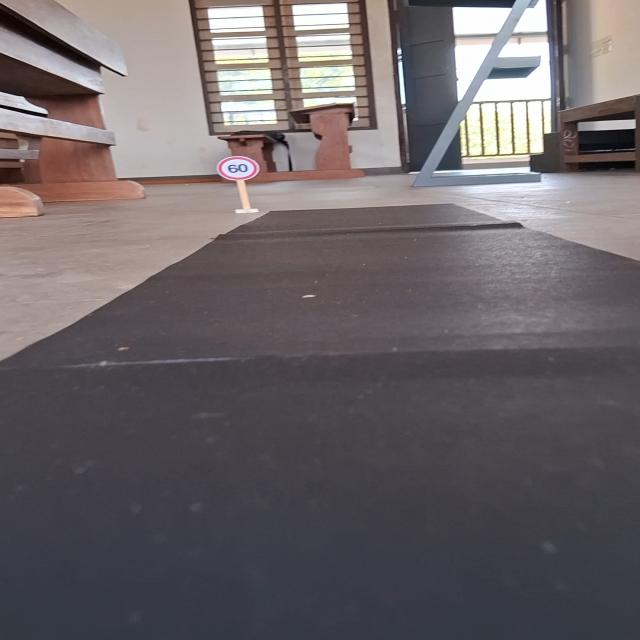Speed60: (214, 156, 261, 182)
